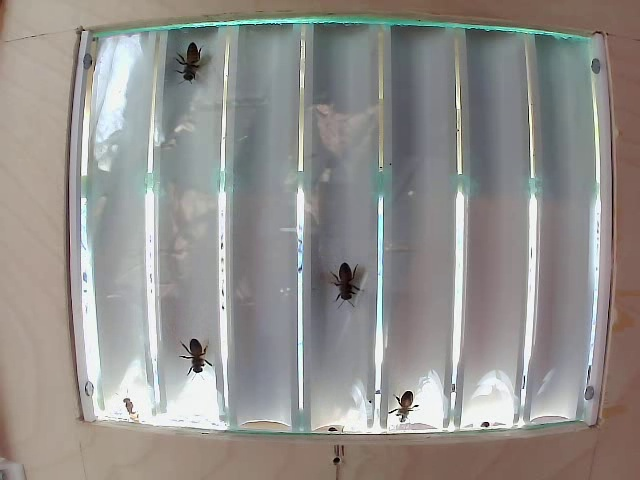bee: (319, 256, 378, 314), (177, 311, 219, 389), (368, 377, 430, 419), (181, 35, 215, 89)
